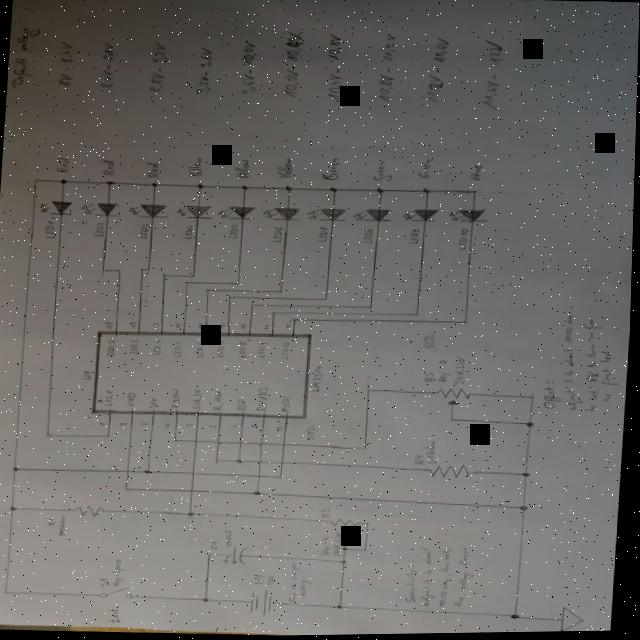capacitor: (224, 545, 251, 566)
crossover: (189, 488, 197, 494), (280, 460, 288, 466), (215, 440, 223, 445), (237, 441, 245, 446), (258, 459, 264, 465), (260, 442, 267, 447), (281, 443, 288, 448), (125, 469, 132, 474), (194, 439, 200, 444), (192, 471, 198, 476), (257, 474, 263, 479)
diode: (79, 202, 122, 218), (127, 203, 169, 219), (304, 209, 347, 224), (216, 205, 256, 221), (401, 209, 440, 225), (37, 200, 73, 217), (175, 204, 213, 220), (447, 210, 487, 225), (260, 208, 301, 222), (352, 210, 393, 224)
ground: (560, 606, 588, 633)
junction: (374, 188, 384, 196), (525, 423, 536, 430), (511, 615, 522, 622), (187, 512, 196, 520), (283, 186, 293, 193), (522, 473, 532, 480), (520, 506, 530, 513), (238, 186, 249, 192), (420, 189, 430, 195), (328, 188, 338, 194), (195, 184, 205, 190), (203, 598, 213, 604), (143, 470, 153, 476), (149, 183, 159, 189), (236, 458, 246, 464), (290, 318, 298, 325), (58, 179, 67, 185), (104, 181, 113, 187), (253, 491, 262, 497), (340, 559, 349, 565), (449, 418, 457, 424), (338, 605, 346, 611), (10, 506, 18, 512), (12, 466, 20, 472), (529, 394, 535, 402), (342, 547, 350, 553), (463, 321, 470, 327), (470, 191, 478, 196), (4, 590, 12, 595), (207, 553, 215, 558), (366, 389, 373, 394), (45, 433, 52, 438), (161, 274, 168, 279), (365, 523, 372, 528), (226, 295, 233, 300), (278, 476, 285, 481), (125, 487, 131, 492), (368, 306, 374, 311), (322, 298, 328, 303), (362, 448, 368, 453), (278, 290, 284, 295), (414, 313, 420, 318), (173, 439, 179, 444), (234, 282, 240, 287), (215, 460, 221, 465), (270, 312, 276, 317), (31, 179, 37, 183), (106, 435, 112, 439), (190, 275, 196, 279), (100, 269, 106, 273), (116, 269, 122, 273), (364, 550, 370, 554), (204, 290, 210, 294), (249, 305, 255, 309), (183, 282, 189, 286), (146, 268, 150, 271), (140, 268, 144, 271)
resistor: (433, 389, 472, 408), (429, 464, 471, 481), (330, 518, 362, 533), (75, 505, 107, 519)
source: (250, 589, 278, 618)
switch: (101, 586, 135, 600)
text: (556, 314, 587, 413), (578, 320, 603, 415), (478, 40, 504, 114), (423, 36, 449, 108), (10, 25, 38, 89), (279, 32, 304, 103), (321, 34, 344, 106), (374, 33, 396, 105), (454, 547, 478, 609), (597, 352, 623, 405), (236, 40, 259, 98), (145, 40, 168, 95), (418, 548, 439, 608), (53, 40, 76, 88), (192, 46, 213, 97), (95, 41, 116, 90), (438, 549, 455, 608), (403, 564, 421, 606), (539, 382, 562, 412), (319, 157, 341, 184), (288, 563, 301, 604), (372, 160, 392, 184), (112, 559, 128, 587), (275, 158, 294, 181), (185, 156, 204, 178), (311, 367, 325, 395), (453, 357, 466, 387), (255, 387, 270, 413), (189, 388, 205, 412), (232, 159, 250, 180), (416, 159, 433, 181), (210, 389, 225, 412), (424, 441, 438, 465), (168, 388, 183, 410), (437, 361, 452, 383), (98, 159, 116, 177), (53, 156, 70, 175), (456, 229, 470, 252), (468, 164, 484, 184), (143, 161, 159, 180), (333, 533, 345, 557), (42, 220, 56, 239), (360, 229, 376, 245), (57, 516, 69, 537), (214, 341, 227, 360), (194, 341, 207, 360), (422, 335, 437, 351), (270, 228, 284, 245), (171, 341, 185, 358), (300, 579, 313, 597), (278, 343, 291, 361), (256, 342, 269, 360), (321, 537, 332, 558), (223, 530, 235, 549), (280, 396, 292, 415), (236, 341, 248, 360), (109, 608, 123, 624), (92, 222, 106, 238), (226, 224, 240, 239), (235, 398, 249, 413), (316, 227, 329, 243), (125, 392, 138, 408), (305, 426, 318, 442), (102, 391, 115, 407), (137, 225, 150, 240), (408, 230, 421, 245), (128, 339, 141, 354), (151, 341, 163, 357), (106, 341, 117, 357), (182, 227, 194, 241), (148, 398, 160, 410), (320, 509, 333, 520), (255, 574, 267, 585), (424, 372, 436, 383), (82, 369, 94, 380), (100, 578, 111, 588), (415, 456, 426, 466), (211, 541, 221, 551), (104, 321, 114, 331), (48, 517, 58, 527), (268, 575, 277, 586), (128, 320, 138, 329), (284, 322, 292, 330), (151, 321, 160, 328), (231, 424, 241, 430), (263, 324, 270, 332), (174, 322, 182, 329), (197, 323, 204, 331), (218, 323, 226, 330), (240, 323, 248, 330), (208, 424, 219, 429), (140, 422, 150, 427), (120, 421, 128, 427), (98, 422, 106, 428), (276, 426, 284, 432), (250, 424, 259, 429), (164, 423, 173, 428), (186, 423, 194, 428)
